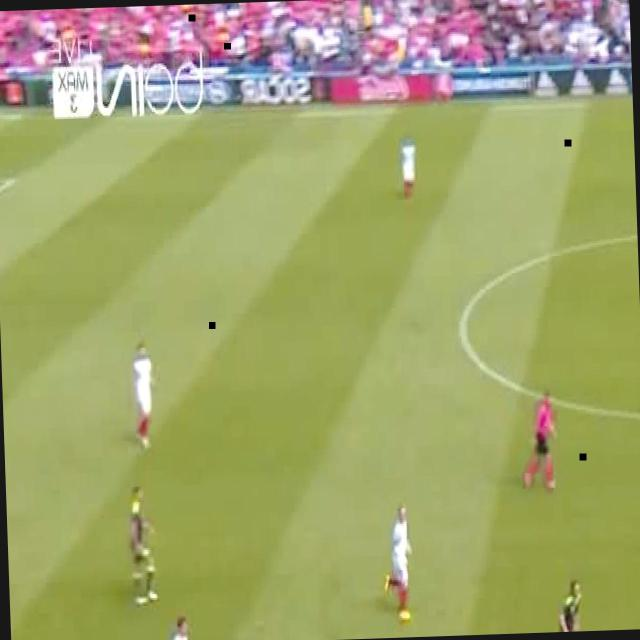player-white: (380, 504, 414, 628), (128, 486, 160, 612), (522, 387, 558, 491), (133, 343, 157, 446), (544, 575, 584, 633), (400, 134, 418, 196), (160, 615, 198, 640)
